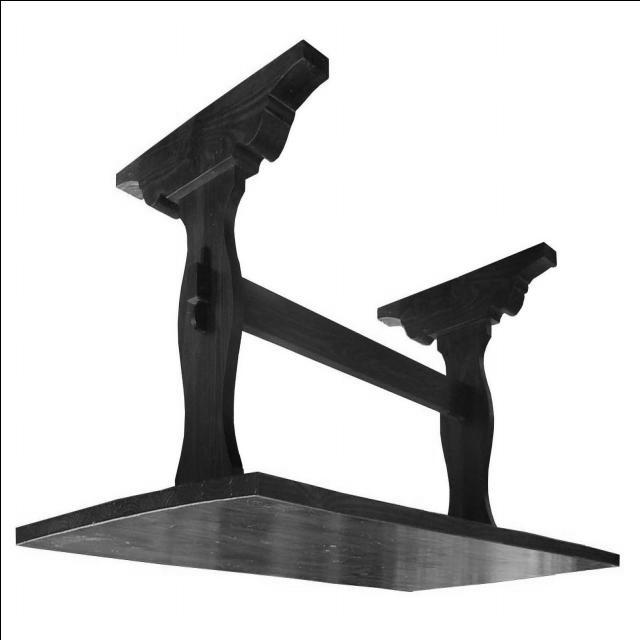table: (14, 40, 618, 592)
